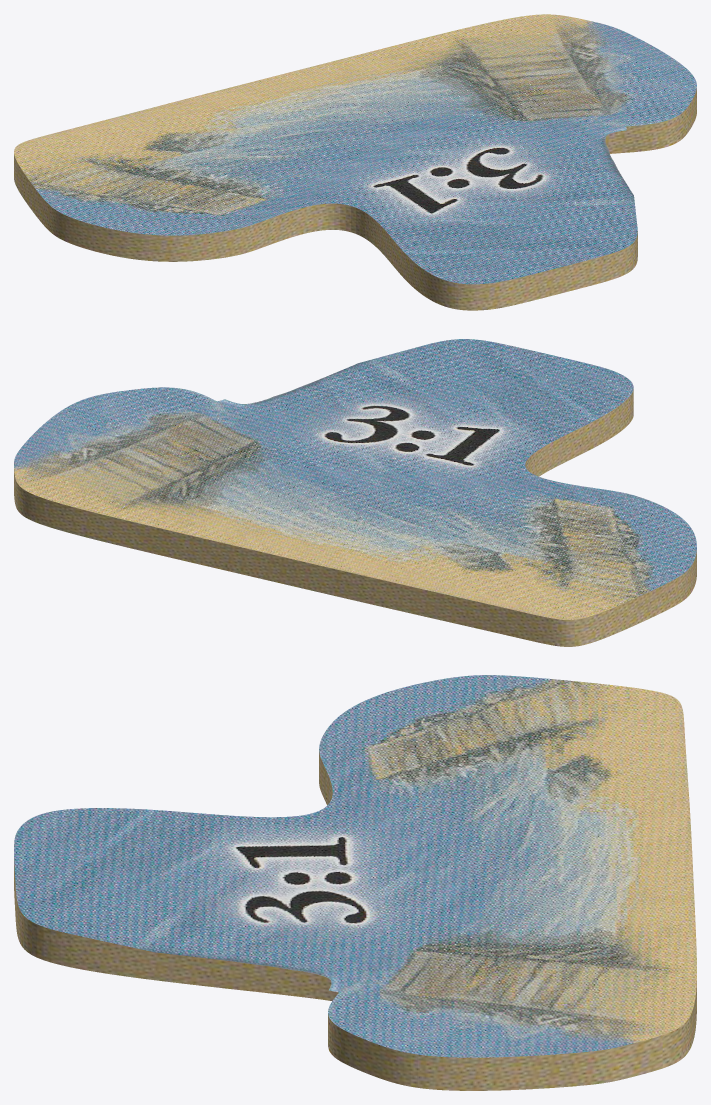
The model's file is Port.fbx.
3 renders of one model, top to bottom at view 1: azimuth 30°, elevation 25°; view 2: azimuth 150°, elevation 25°; view 3: azimuth 270°, elevation 25°, orthographic. The views are drawn at different scales.
Visible parts, largest first — view 1: NurbsPath; view 2: NurbsPath; view 3: NurbsPath.
Part boxes in pixels (x1,y1,x2,y2): NurbsPath: [14, 14, 696, 310]; NurbsPath: [14, 339, 696, 646]; NurbsPath: [14, 675, 696, 1090].
Bounding box in the file's own units: 493 × 20 × 372.
